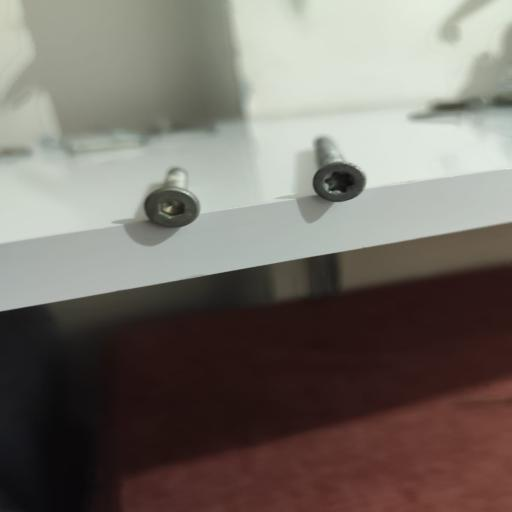Hex-Allen: (145, 182, 202, 229)
Torx: (309, 160, 370, 203)
